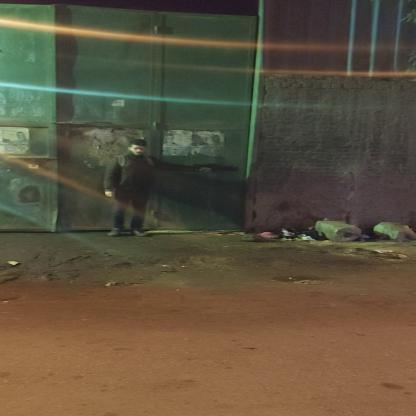long weapon: (180, 156, 246, 182)
